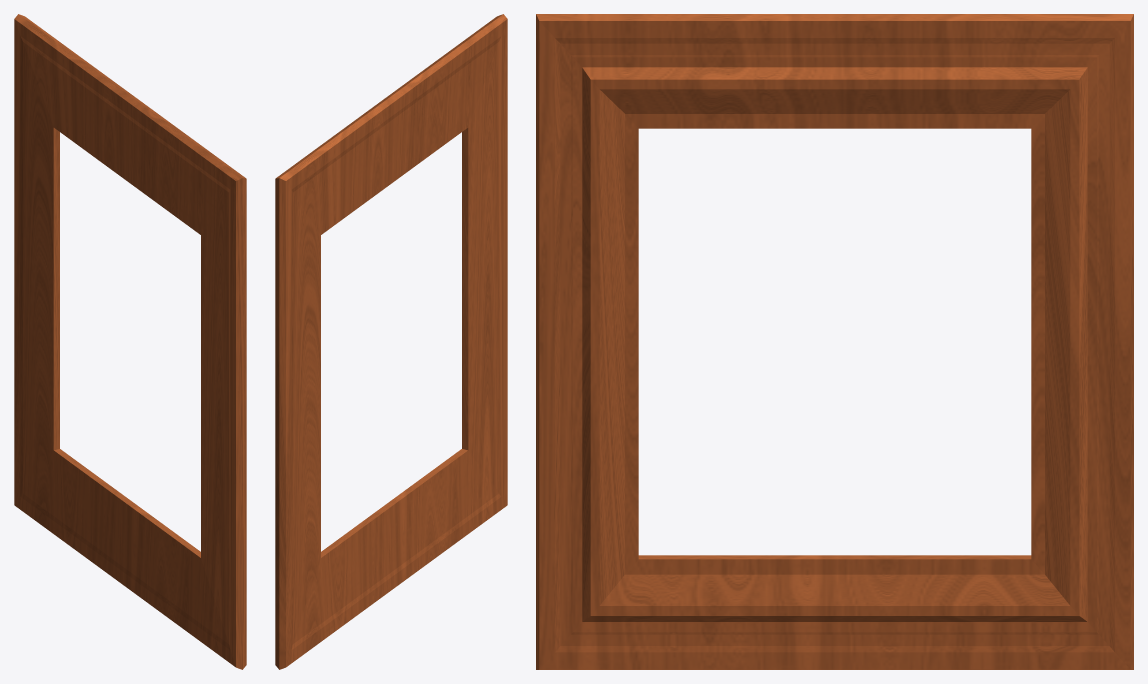
Rendered from WoodenFrame.fbx.
3 renders of one model, left to right at view 1: azimuth 30°, elevation 25°; view 2: azimuth 150°, elevation 25°; view 3: azimuth 270°, elevation 25°, orthographic. The views are drawn at different scales.
Parts seen in each view (by area): view 1: Cube.002; view 2: Cube.002; view 3: Cube.002.
Boxes of the visible parts, x1,y1,x2,y2 form: Cube.002: [14, 14, 246, 669]; Cube.002: [275, 14, 507, 669]; Cube.002: [536, 14, 1133, 669].
Bounding box in the file's own units: 15.37 × 514 × 424.
Materials: 1 (1 with a texture image).
